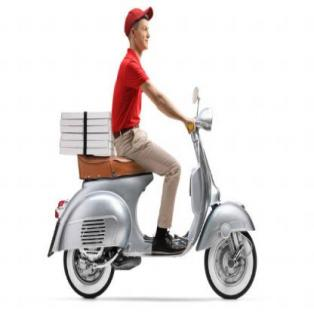Motocicleta: (42, 94, 260, 298)
